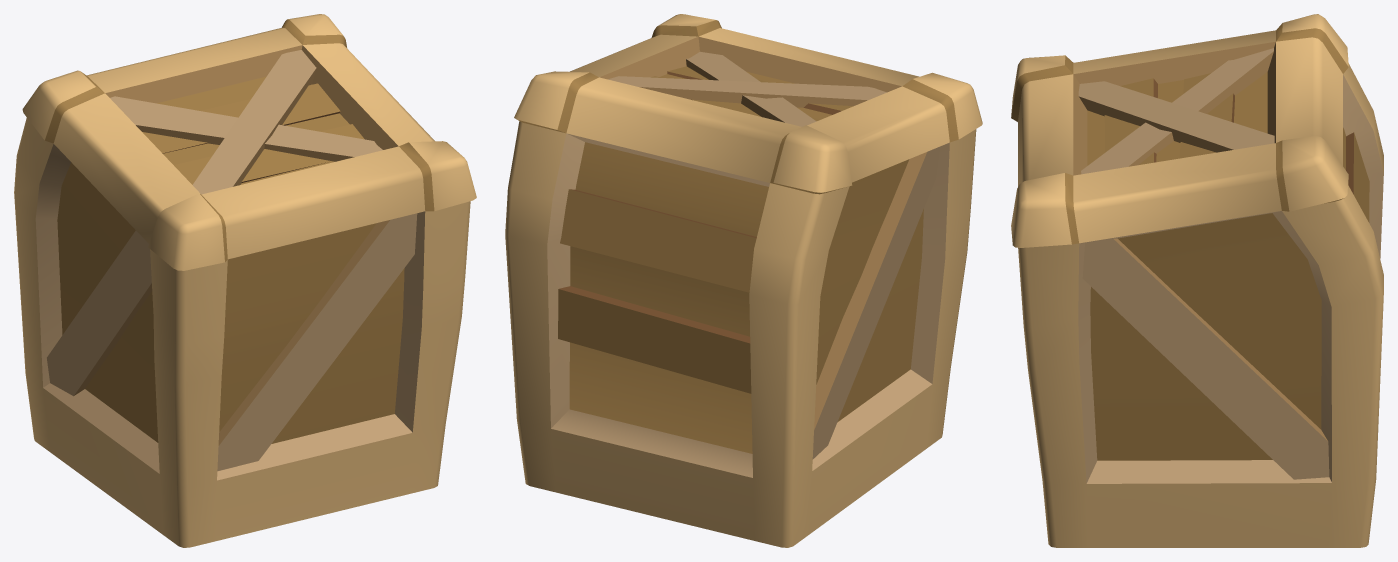
The model's file is wooden chest.fbx.
3 views of the same model, side by side, from view 1: azimuth 30°, elevation 25°; view 2: azimuth 150°, elevation 25°; view 3: azimuth 270°, elevation 25° (orthographic). The views are drawn at different scales.
Visible parts, largest first — view 1: wooden chest; view 2: wooden chest; view 3: wooden chest.
Boxes of the visible parts, box(x1,y1,x2,y2) form: wooden chest: box(14, 14, 476, 547); wooden chest: box(505, 14, 982, 547); wooden chest: box(1011, 14, 1383, 547).
Size of the model in its own units: 104 by 104 by 123.
Materials: 1 (1 with a texture image).
